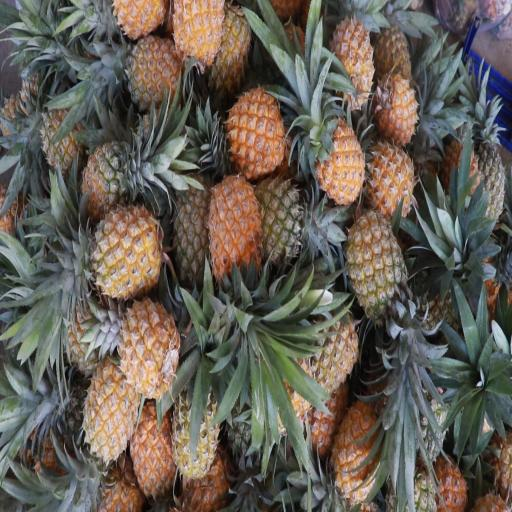------------------------------: (343, 203, 408, 333), (170, 366, 222, 490), (77, 141, 152, 225), (253, 168, 313, 264), (118, 28, 185, 112)
Pineapple - v8 v1: (77, 194, 171, 296), (205, 164, 268, 294), (114, 291, 183, 403), (81, 344, 140, 466), (331, 395, 391, 512), (298, 304, 365, 401), (226, 76, 286, 183), (305, 111, 369, 208), (323, 18, 380, 118), (124, 392, 179, 494), (359, 133, 416, 229), (369, 70, 422, 154), (169, 0, 225, 78)
